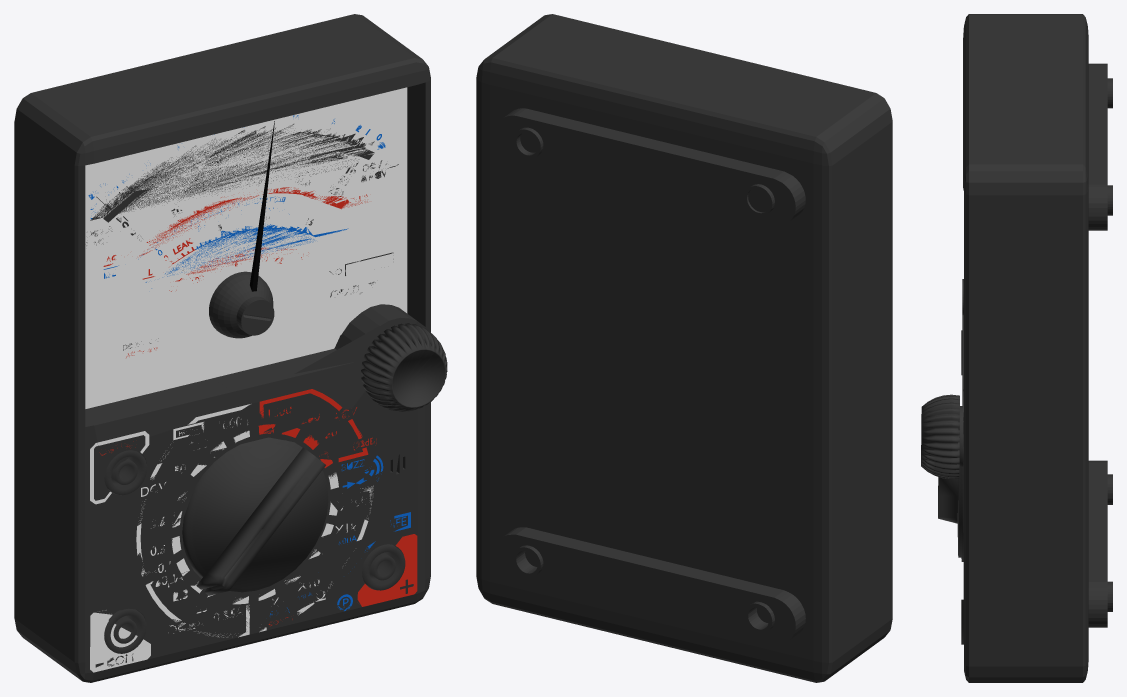
File: analog_multimeter.fbx
The picture shows the model from 3 angles, left to right: view 1: azimuth 30°, elevation 25°; view 2: azimuth 150°, elevation 25°; view 3: azimuth 270°, elevation 25°; orthographic projection. The views are drawn at different scales.
Parts seen in each view (by area): view 1: mm1, mm1skala, pemutar, pemutar2, jarum; view 2: mm1; view 3: mm1, pemutar2, pemutar.
Part boxes in pixels (x1=…): mm1: x1=14, y1=14, x2=430, y2=682; mm1skala: x1=85, y1=87, x2=407, y2=408; pemutar: x1=182, y1=437, x2=328, y2=595; pemutar2: x1=361, y1=323, x2=447, y2=411; jarum: x1=209, y1=121, x2=274, y2=338; mm1: x1=476, y1=14, x2=892, y2=682; mm1: x1=961, y1=14, x2=1112, y2=682; pemutar2: x1=921, y1=394, x2=963, y2=478; pemutar: x1=938, y1=466, x2=963, y2=561.
Bounding box in the file's own units: 157 × 230 × 77.1.
